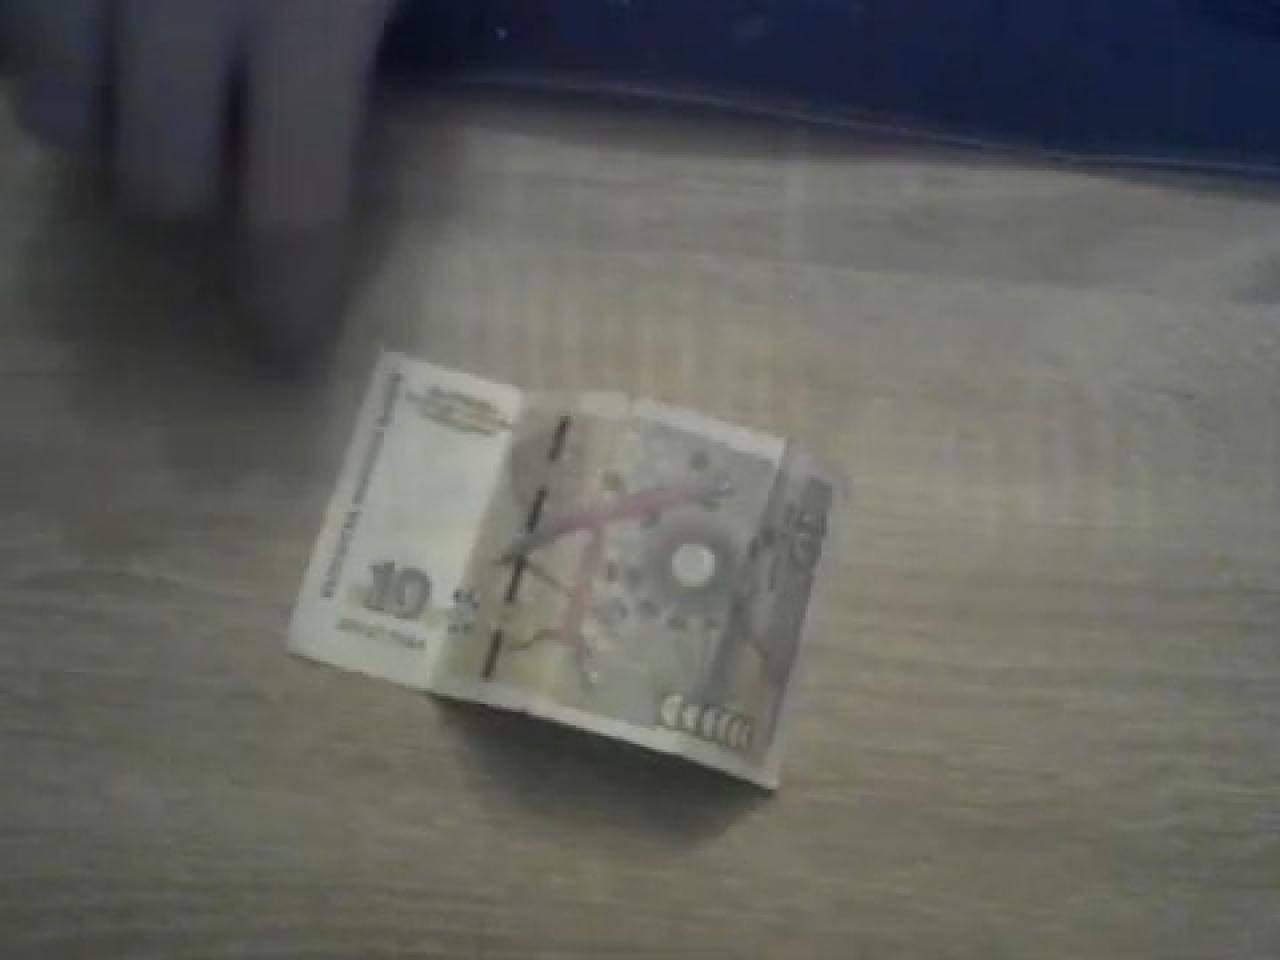10leva: (285, 352, 843, 792)
